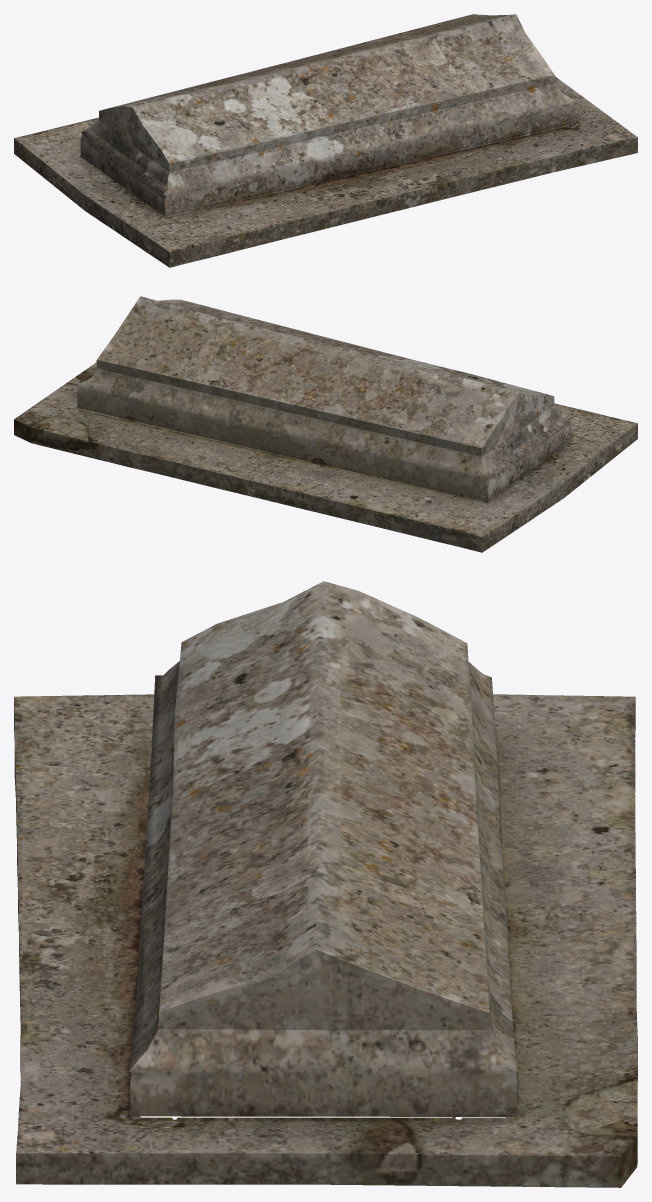
The model's file is OU_AR_Old_Tomb_02_D.fbx.
3 renders of one model, top to bottom at view 1: azimuth 30°, elevation 25°; view 2: azimuth 150°, elevation 25°; view 3: azimuth 270°, elevation 25°, orthographic. The views are drawn at different scales.
Visible parts, largest first — view 1: Old_Tomb_02; view 2: Old_Tomb_02; view 3: Old_Tomb_02.
Boxes of the visible parts, x1,y1,x2,y2 form: Old_Tomb_02: (14, 14, 637, 267); Old_Tomb_02: (14, 296, 637, 552); Old_Tomb_02: (14, 581, 637, 1187).
Bounding box in the file's own units: 327 × 62.35 × 186.
Materials: 1 (1 with a texture image).
